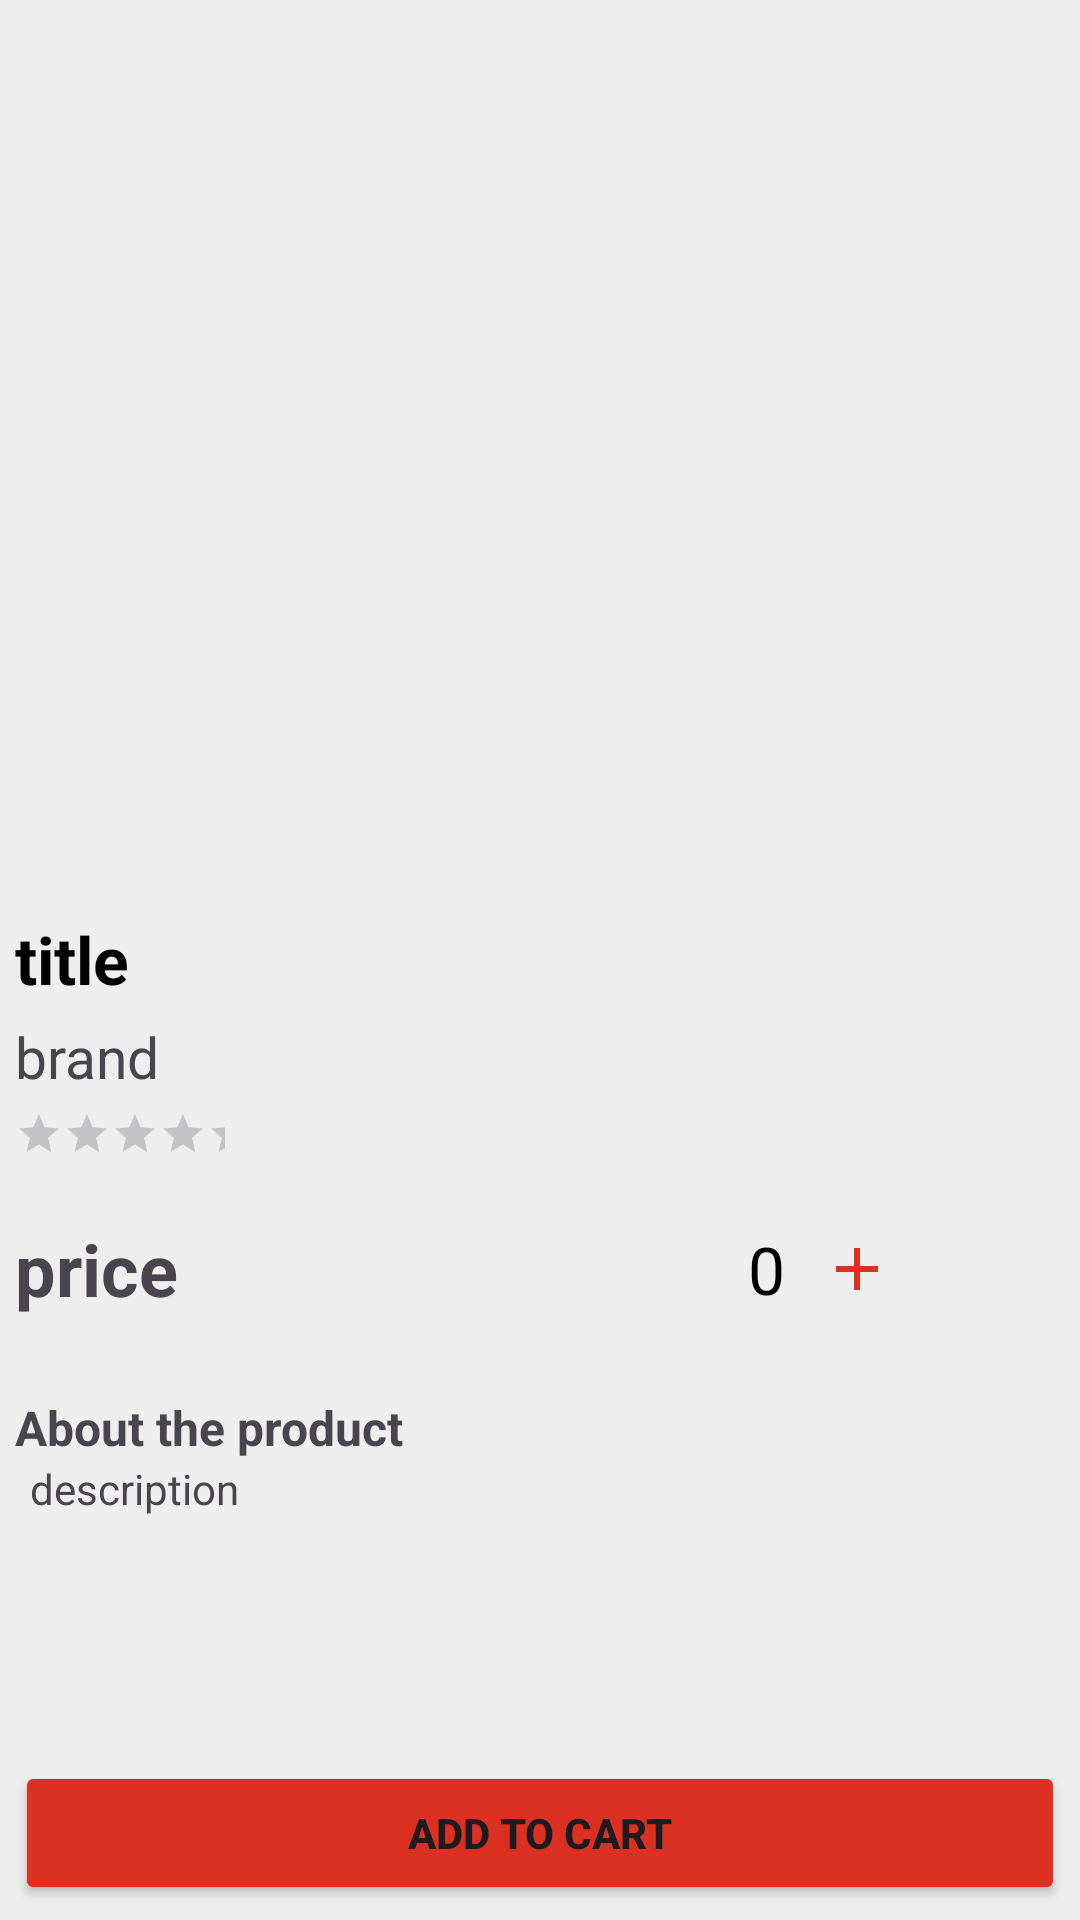

Icons on this 1080 × 1920 Android screen, each with the point to tap as (x=x, y=y):
add icc: (x=857, y=1269)
